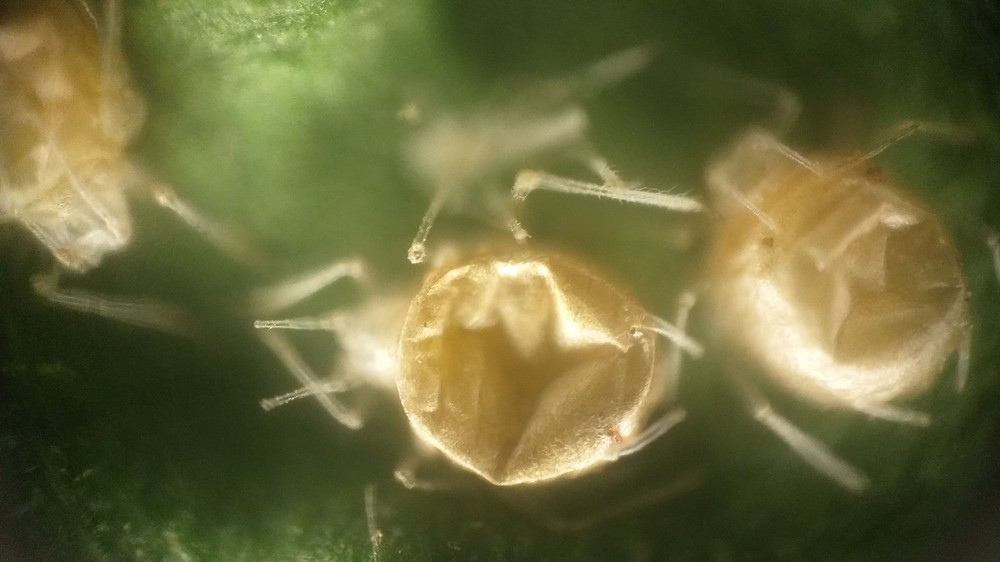Pulgon: (260, 168, 742, 519), (709, 109, 1000, 471), (2, 1, 283, 341)
